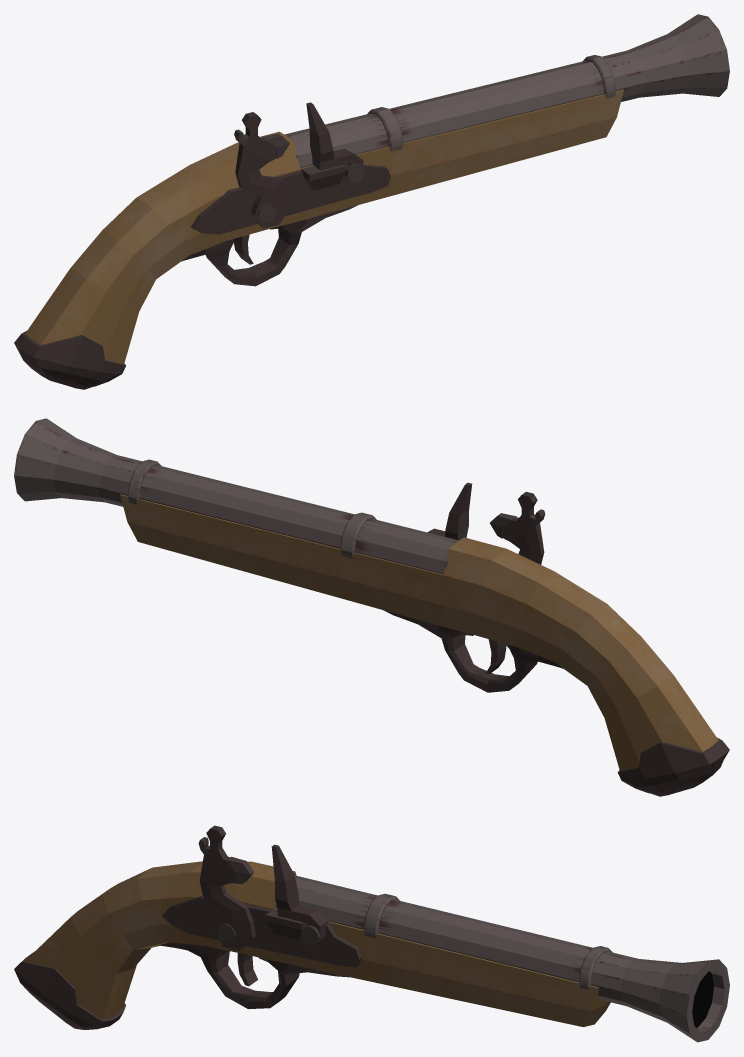
Rendered from stylized_lowpoly_pirate_pistol.glb.
The picture shows the model from 3 angles, top to bottom: view 1: azimuth 30°, elevation 25°; view 2: azimuth 150°, elevation 25°; view 3: azimuth 330°, elevation 25°; orthographic projection.
Visible parts, largest first — view 1: g (×8); view 2: g (×6); view 3: g (×9).
Boxes of the visible parts, left/top/right/bottom form: g (×8): left=14, top=14, right=729, bottom=389; g (×6): left=14, top=418, right=729, bottom=796; g (×9): left=14, top=825, right=729, bottom=1042.
Bounding box in the file's own units: 2 × 0.6906 × 0.2223.
1 material, 1 textured.
